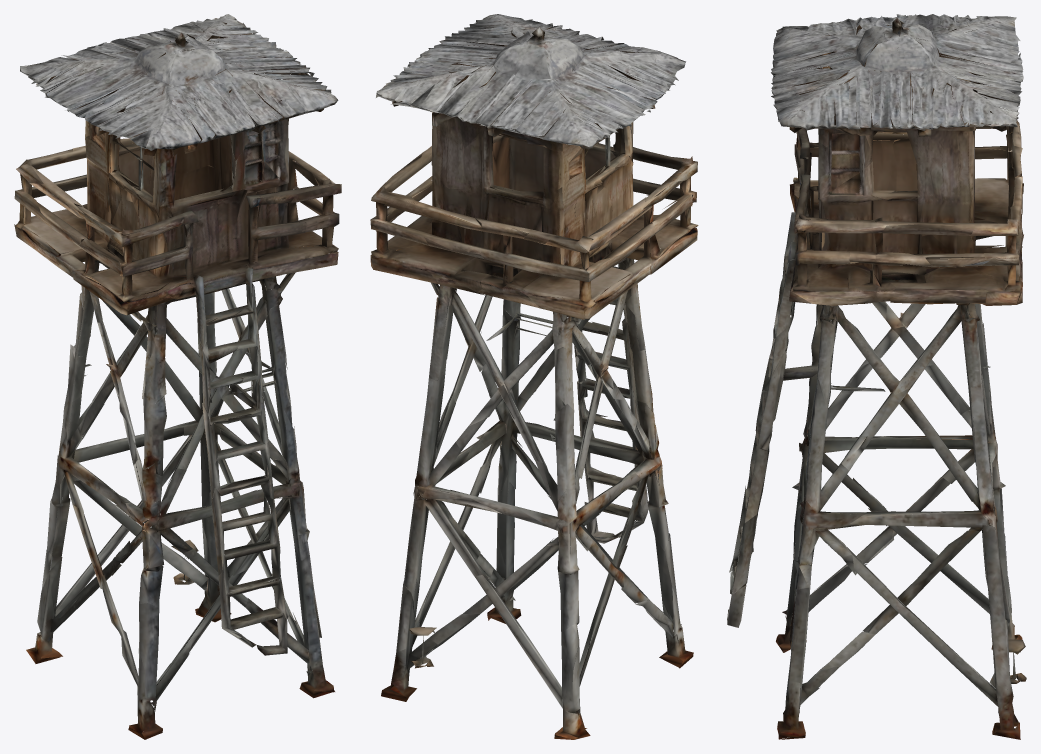
The model's file is watchtower_LOD1.fbx.
The picture shows the model from 3 angles, left to right: view 1: azimuth 30°, elevation 25°; view 2: azimuth 150°, elevation 25°; view 3: azimuth 270°, elevation 25°; orthographic projection. The views are drawn at different scales.
Parts seen in each view (by area): view 1: watchtower.001; view 2: watchtower.001; view 3: watchtower.001.
Part boxes in pixels (x1,y1,x2,y2): watchtower.001: [14, 14, 341, 739]; watchtower.001: [370, 14, 698, 739]; watchtower.001: [727, 14, 1026, 739].
Size of the model in its own units: 3.71 by 10 by 4.04.
Materials: 1 (1 with a texture image).
